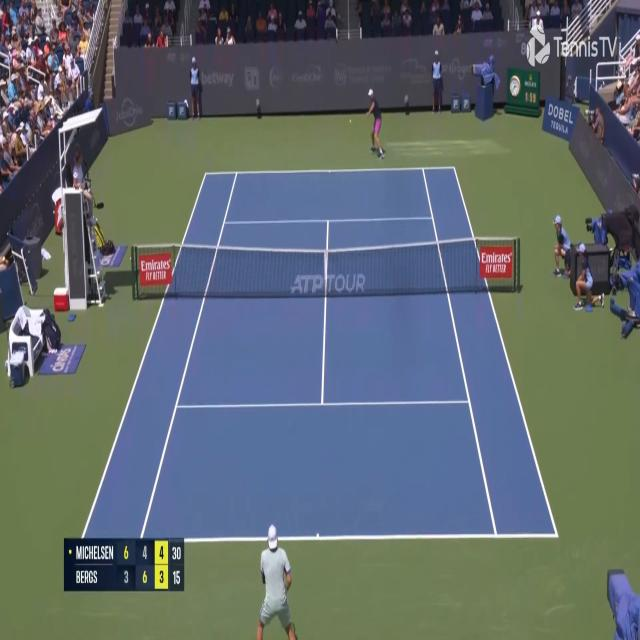tennis-player: (253, 520, 298, 640), (364, 87, 387, 161)
